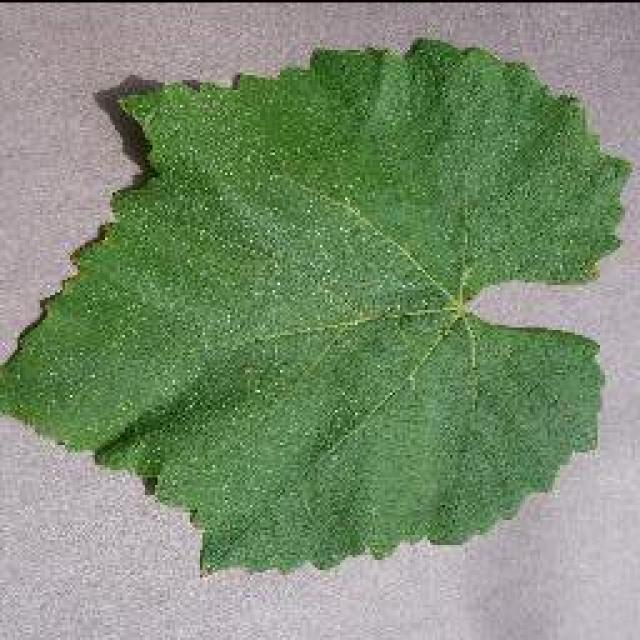Grape___healthy: (0, 40, 628, 568)
